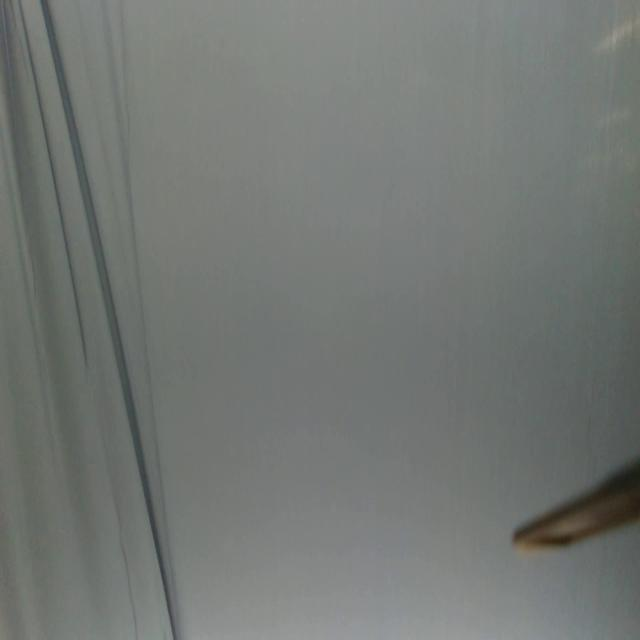crease: (0, 0, 176, 639)
